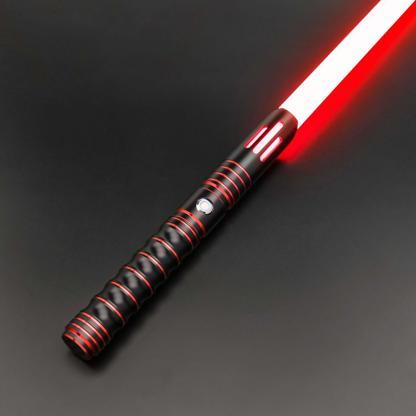sith_lightsaber: (57, 0, 416, 382)
